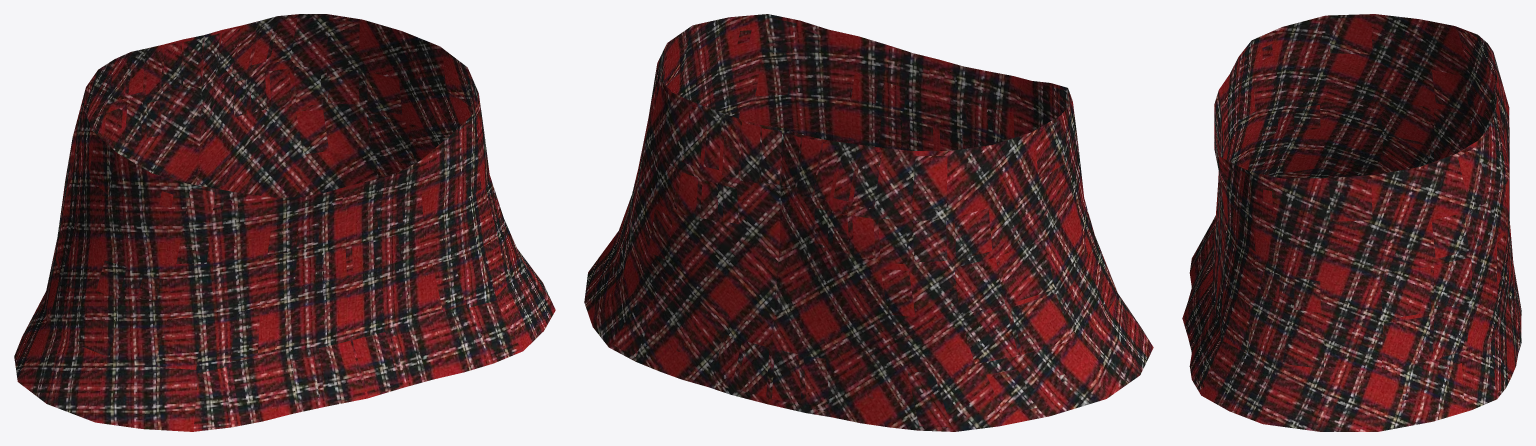
File: mtknife-low-mini-skirt.glb
3 renders of one model, left to right at view 1: azimuth 30°, elevation 25°; view 2: azimuth 150°, elevation 25°; view 3: azimuth 270°, elevation 25°, orthographic. The views are drawn at different scales.
Parts seen in each view (by area): view 1: low mini skirt; view 2: low mini skirt; view 3: low mini skirt.
Part boxes in pixels (x1,y1,x2,y2): low mini skirt: (14,14,555,431); low mini skirt: (584,14,1153,431); low mini skirt: (1182,14,1521,431).
Bounding box in the file's own units: 34.66 × 16.96 × 21.58.
1 material, 1 textured.
